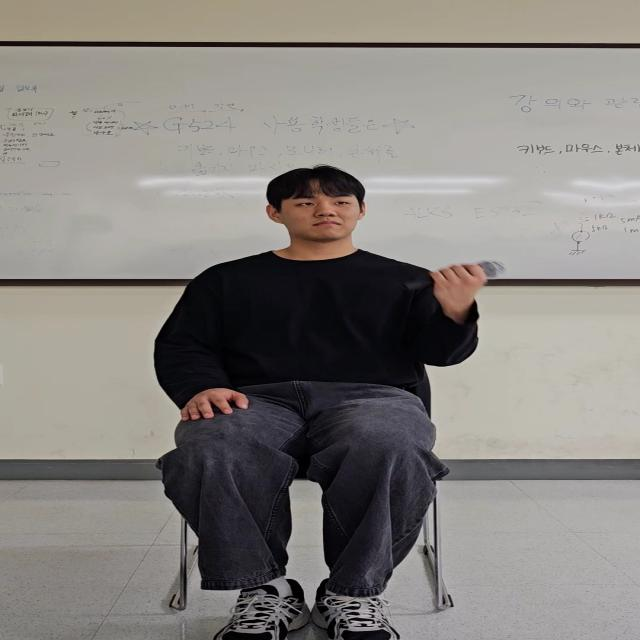curl: (396, 239, 531, 384)
